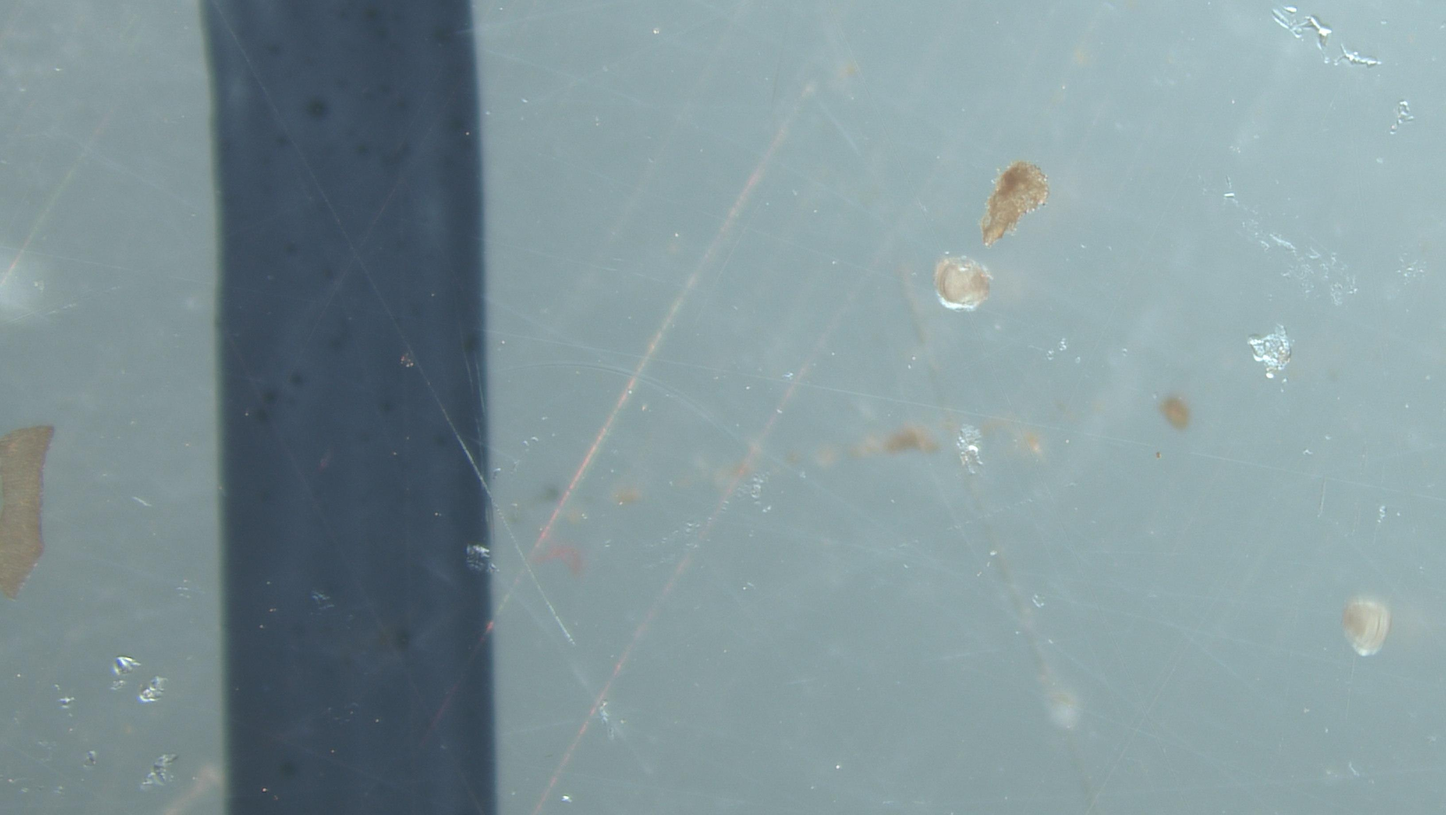live: (1342, 598, 1391, 657)
